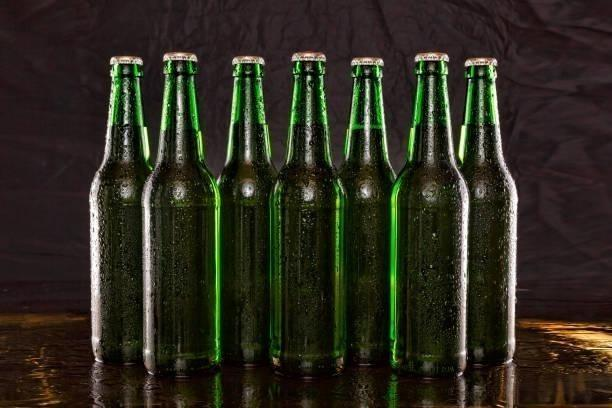bottle-glass: (388, 49, 473, 378), (267, 48, 351, 379), (139, 48, 223, 376), (86, 52, 161, 368), (447, 53, 522, 367), (214, 51, 282, 369), (336, 53, 401, 370)
